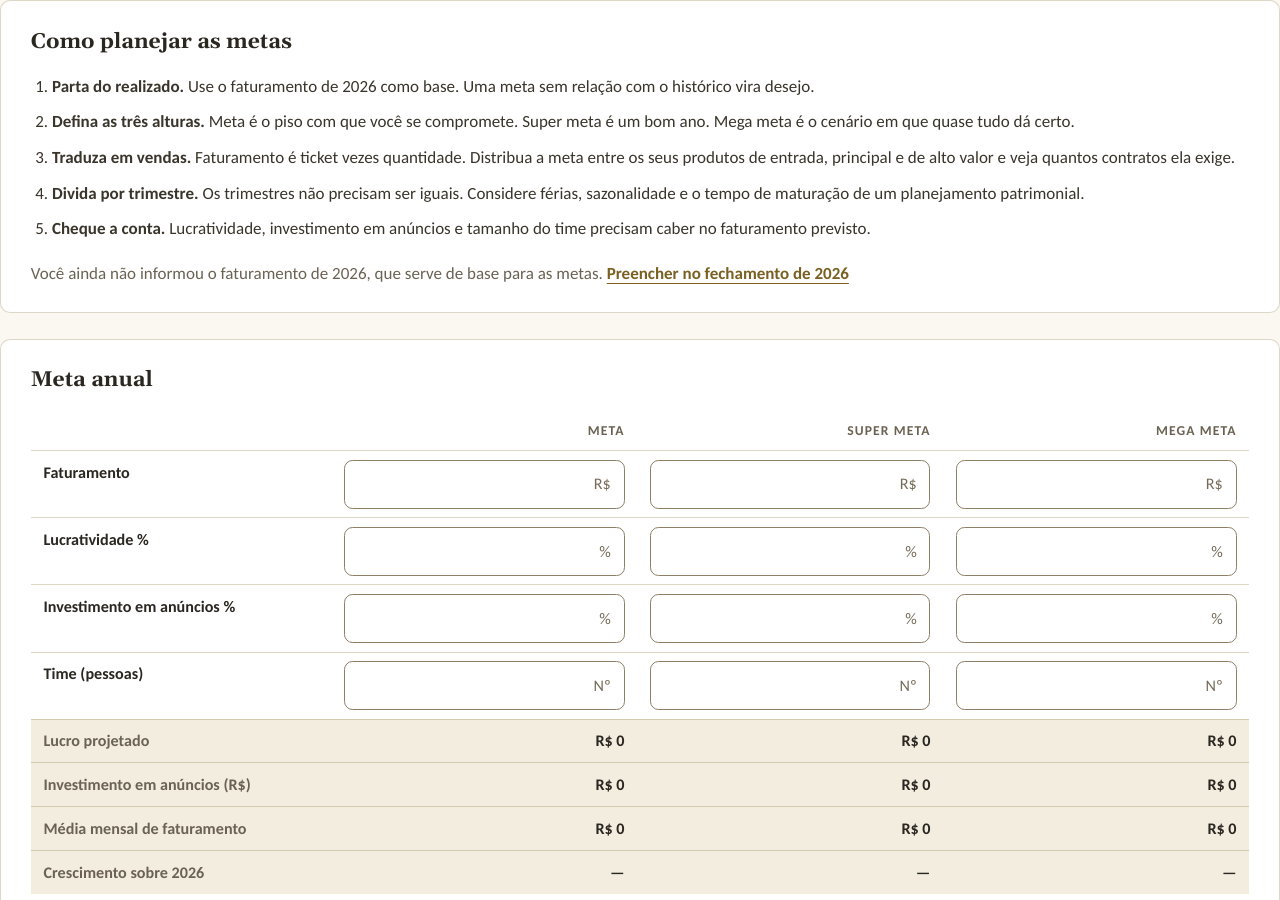
Test case: cenario-compara
The image size is (1280, 900).
Type "1.000.000" into the field named "Faturamento · Meta" at (484, 484), box left=344, top=460, right=624, bottom=509
(page scrolled)
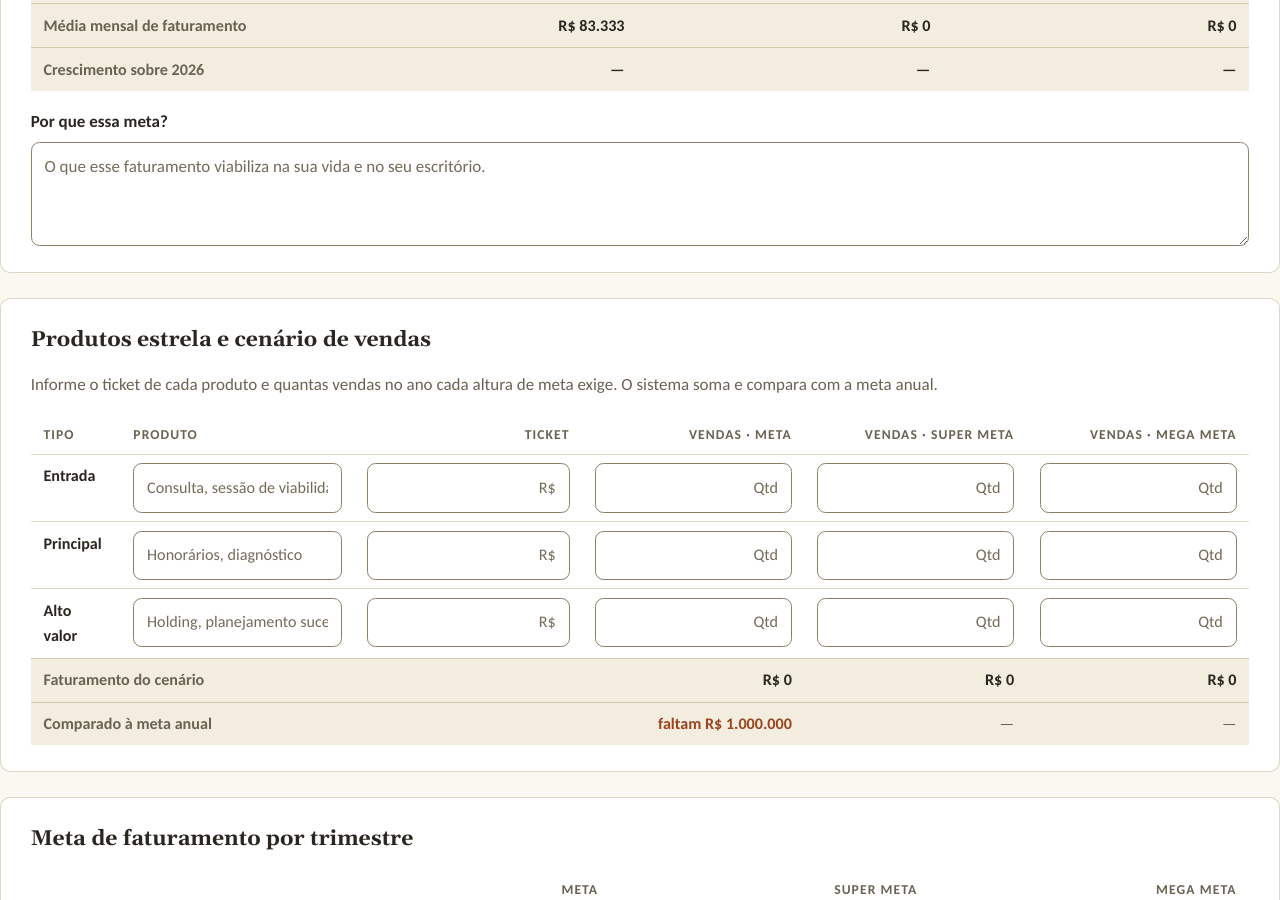
Type "500" into the field named "Ticket · Entrada" at (468, 488), box left=367, top=464, right=570, bottom=513
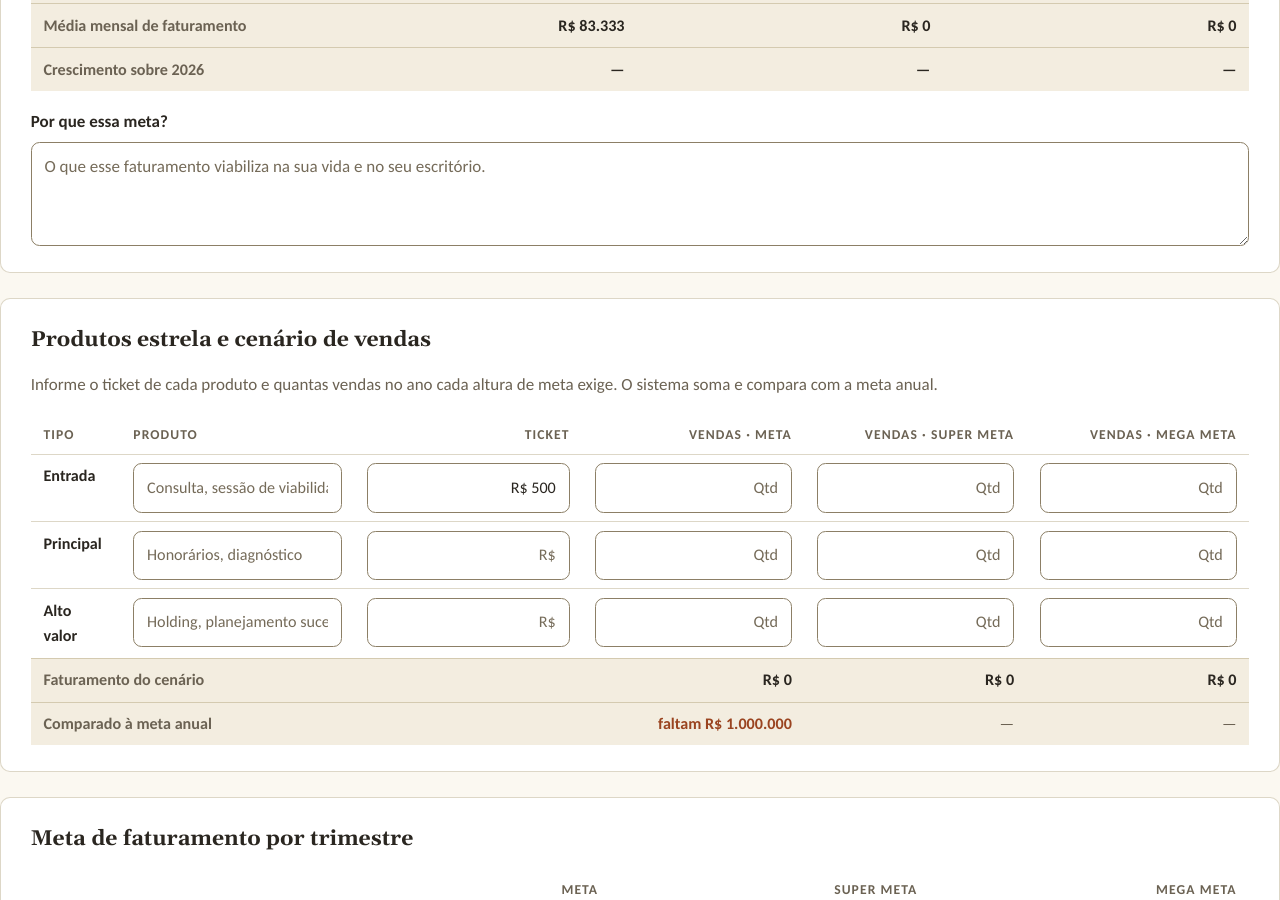
Type "100" into the field named "Vendas · Entrada · Meta" at (693, 488), box left=595, top=464, right=792, bottom=513
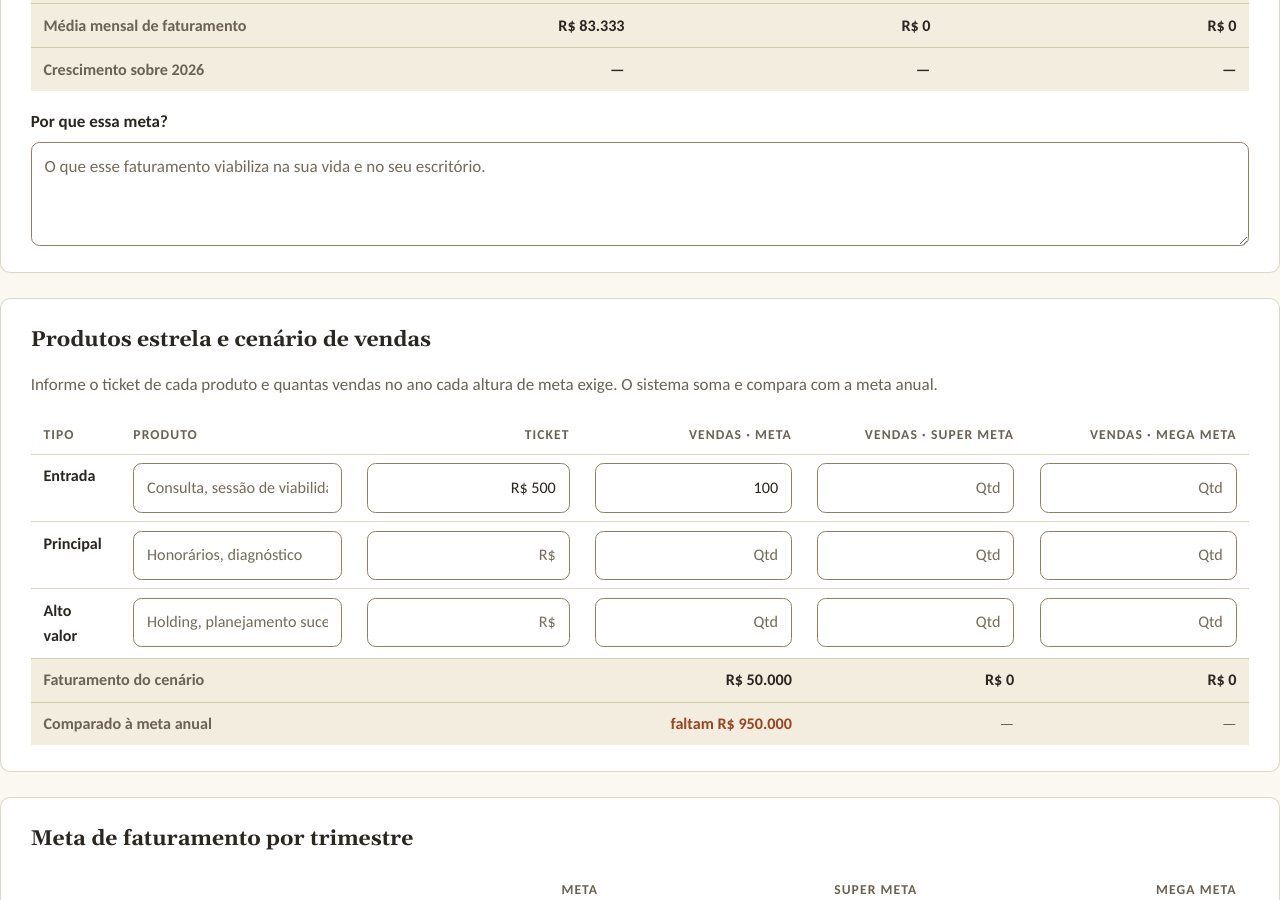
Type "30.000" into the field named "Ticket · Alto valor" at (468, 622), box left=367, top=598, right=570, bottom=647
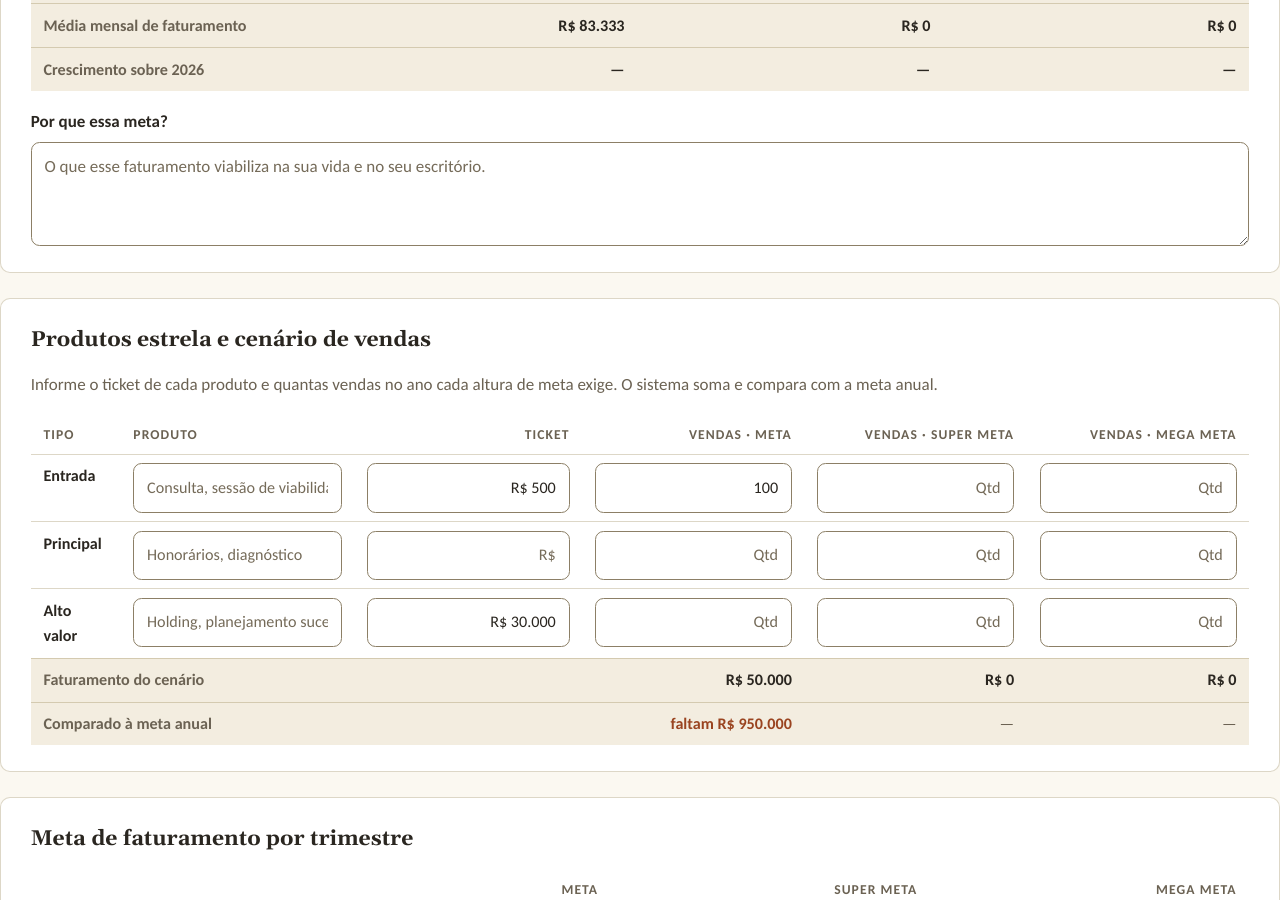
Type "20" into the field named "Vendas · Alto valor · Meta" at (693, 622), box left=595, top=598, right=792, bottom=647
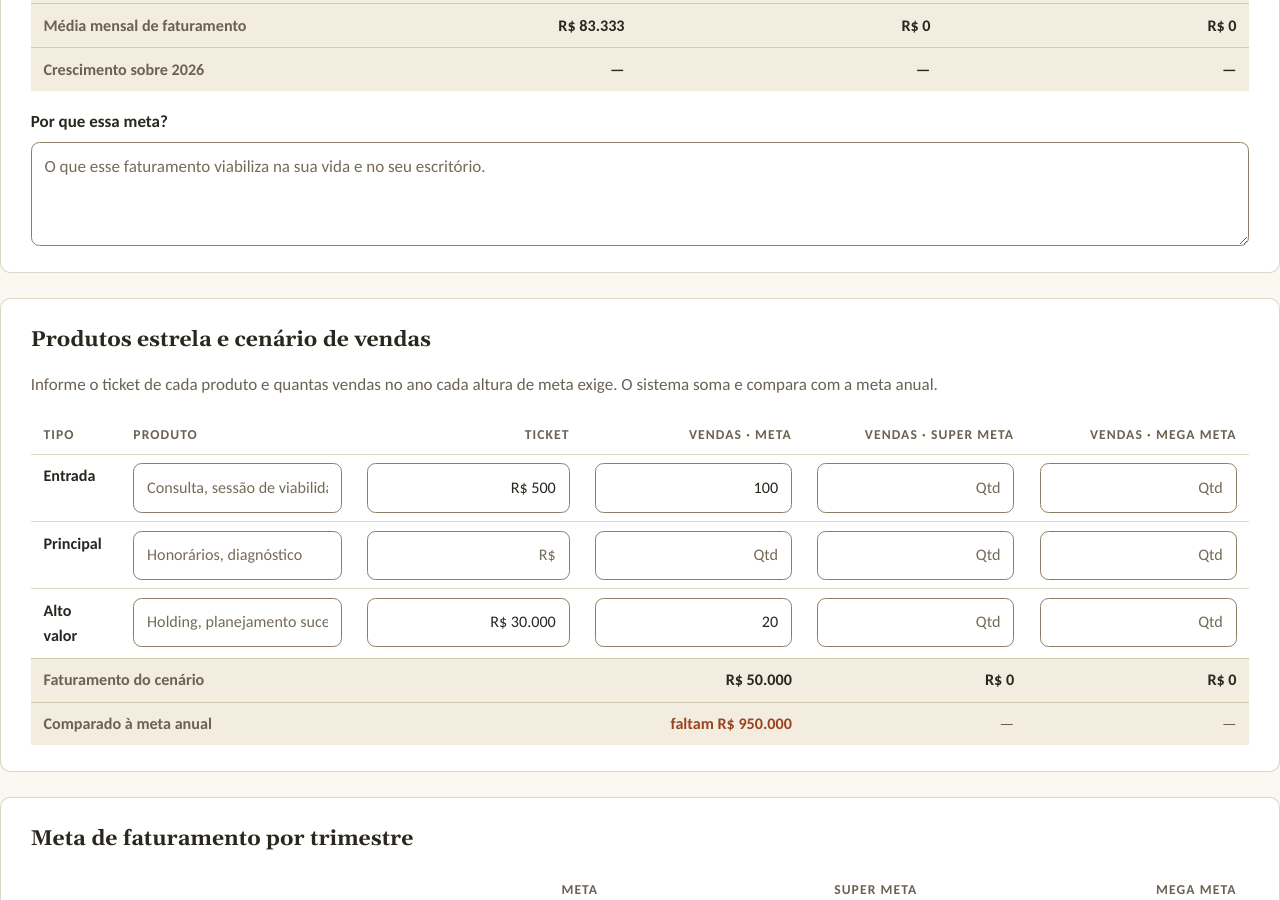
Leave the field named "Vendas · Alto valor · Meta", box left=595, top=598, right=792, bottom=647
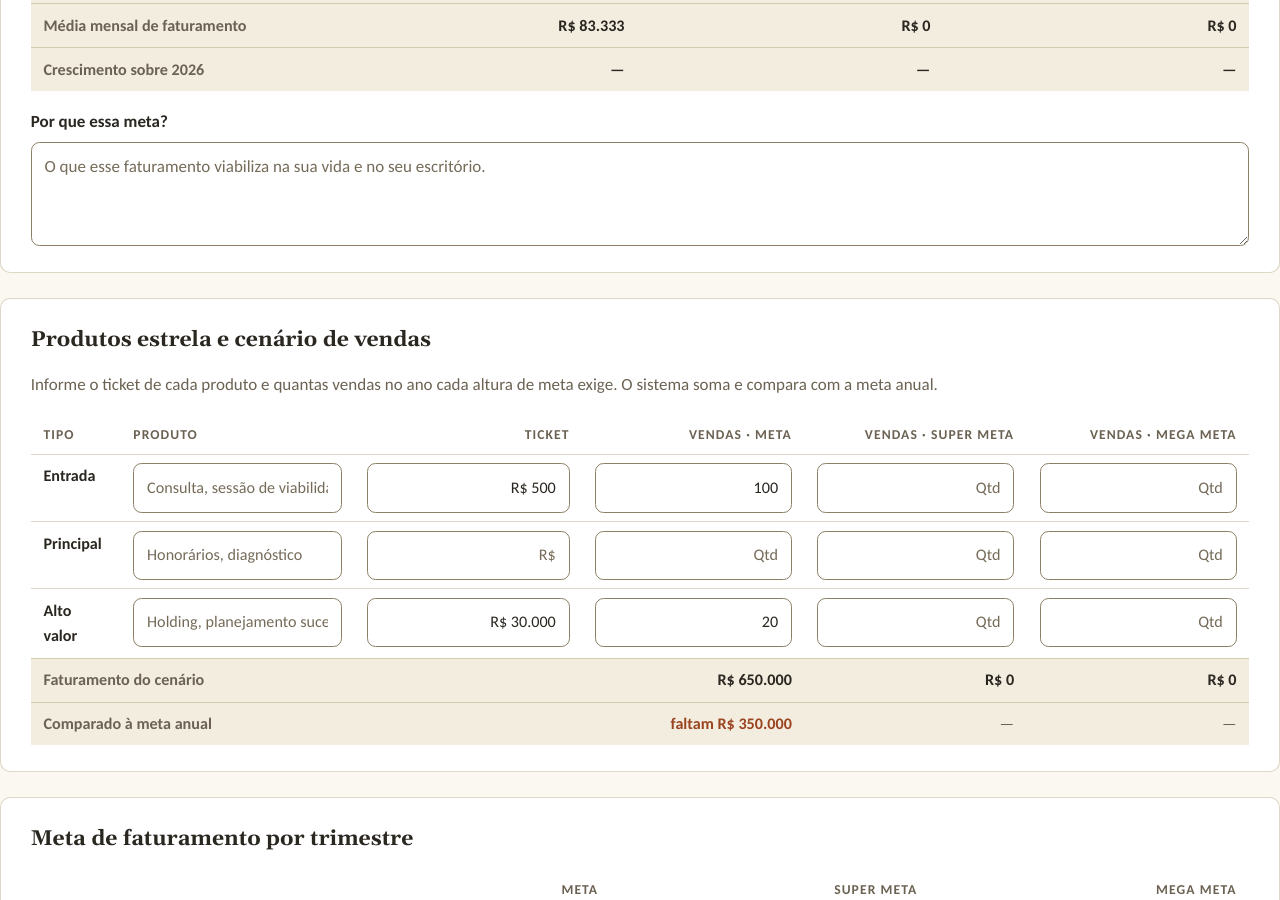
Result: the cell with test id "cenario-meta" reads "R$ 650.000" at left=718, top=670, right=792, bottom=689
Result: the text with test id "cenario-dif-meta" reads "faltam R$ 350.000" at left=670, top=714, right=792, bottom=733
